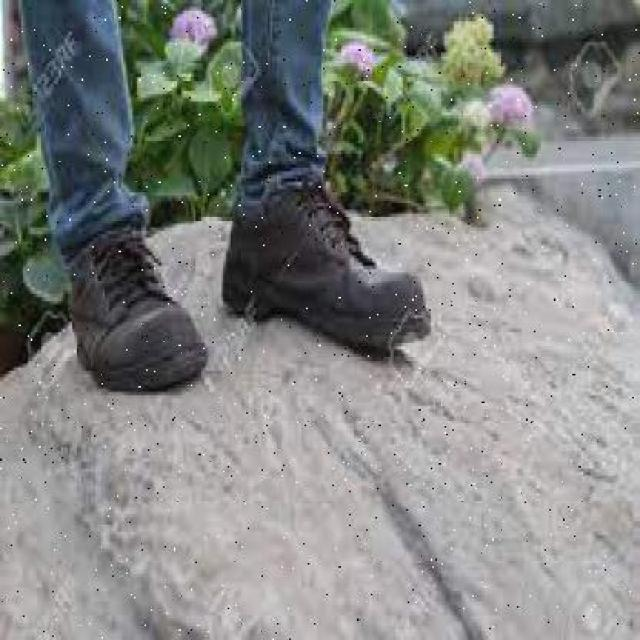shoes: (228, 198, 420, 356), (68, 227, 210, 398)
